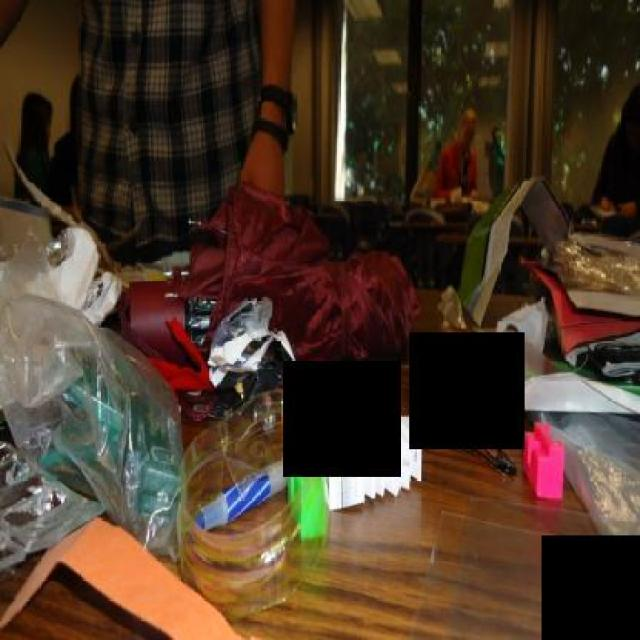plastic bag: (12, 257, 188, 555)
